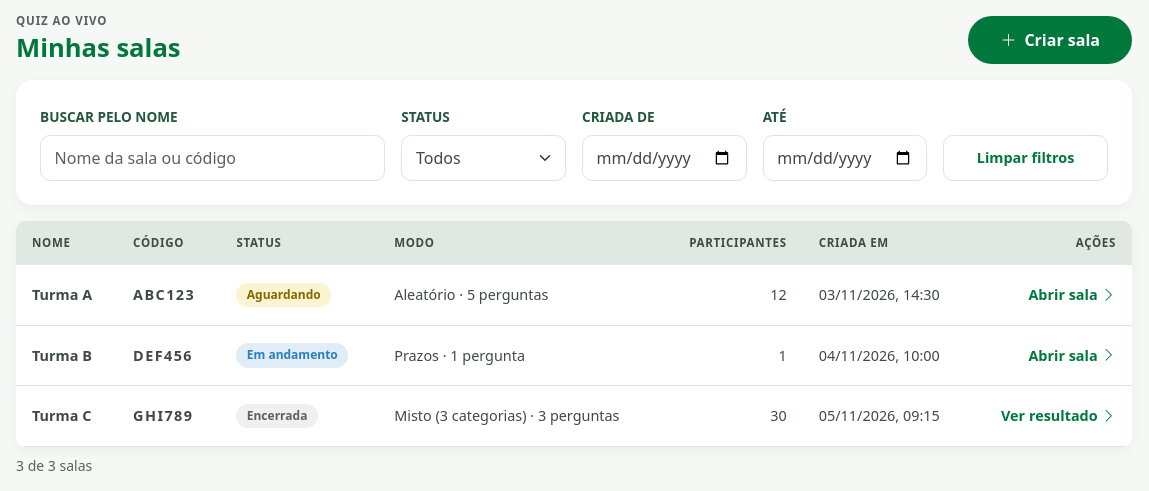
PaginaModeradorSalas › mostra quantas salas aparecem em relação ao total sem filtros
The width and height of the screenshot is (1149, 491).
Check: the text "3 de 3 salas" is shown, box [16,456,92,475]
Select "Em andamento" in the dropdown labelled "STATUS" at x=484, y=158, box [401,135,566,181]
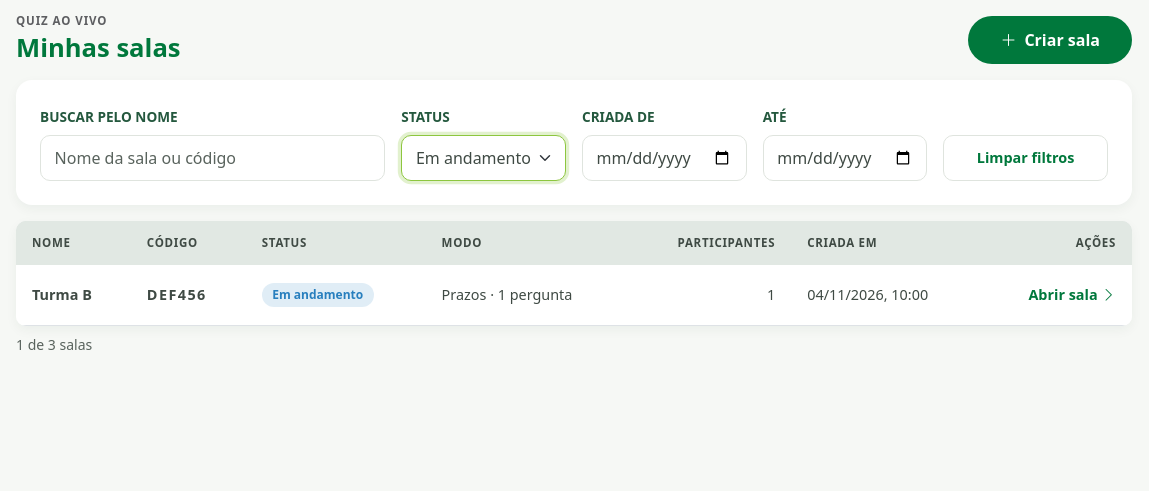
Check: the text "1 de 3 salas" is shown, box [16,335,92,354]
